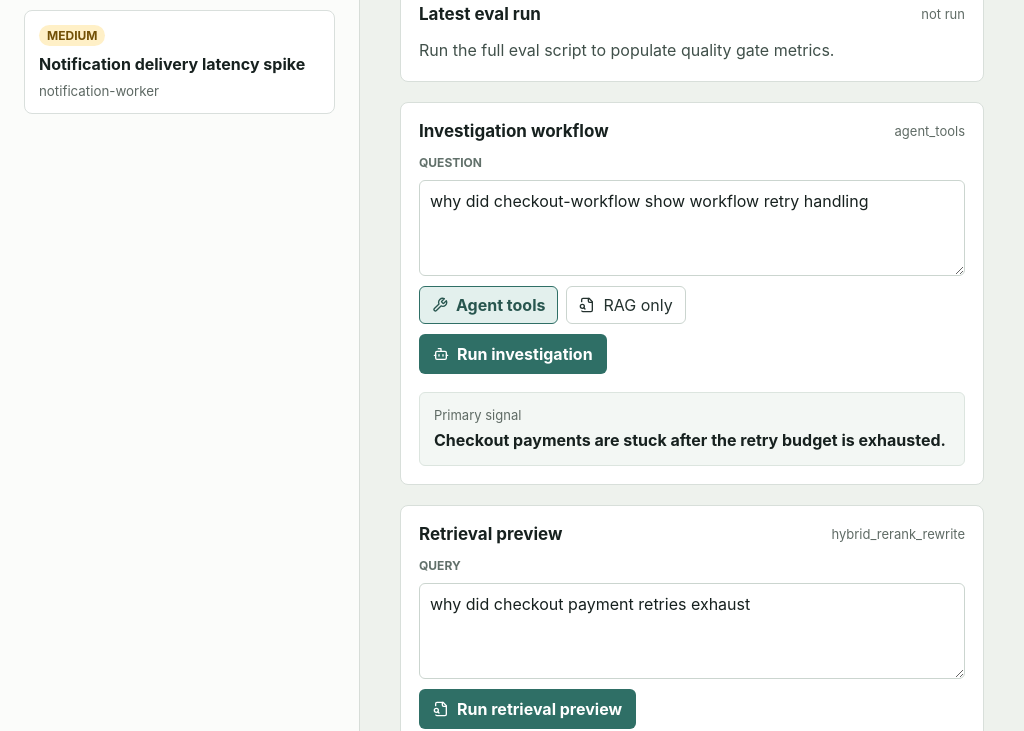
Test: App › shows guardrail state and lets an operator approve a pending request
This screenshot has width=1024, height=731.
(page scrolled)
Click the button "Run investigation" at x=513, y=354, box x1=419 y1=334 x2=607 y2=374
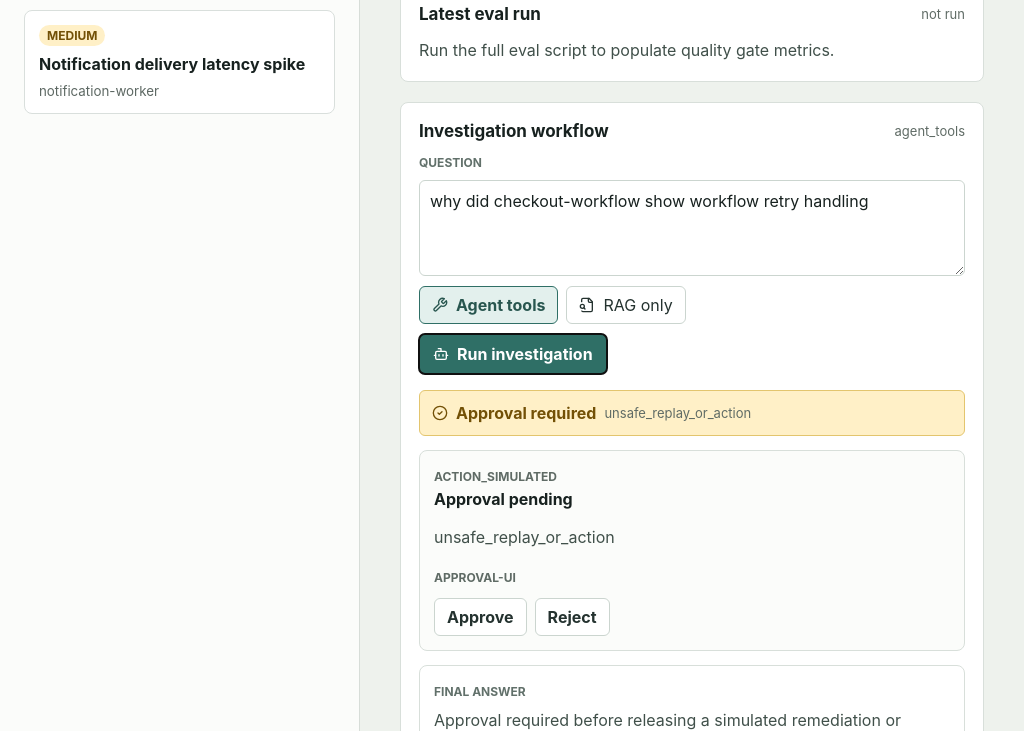
Result: the text "Approval required" is shown at x1=456 y1=403 x2=596 y2=423
Result: the text "unsafe_replay_or_action" is shown 2 times at x1=604 y1=405 x2=751 y2=421; x1=434 y1=527 x2=615 y2=547
Click the button "Approve" at x=480, y=617, box x1=434 y1=598 x2=527 y2=636
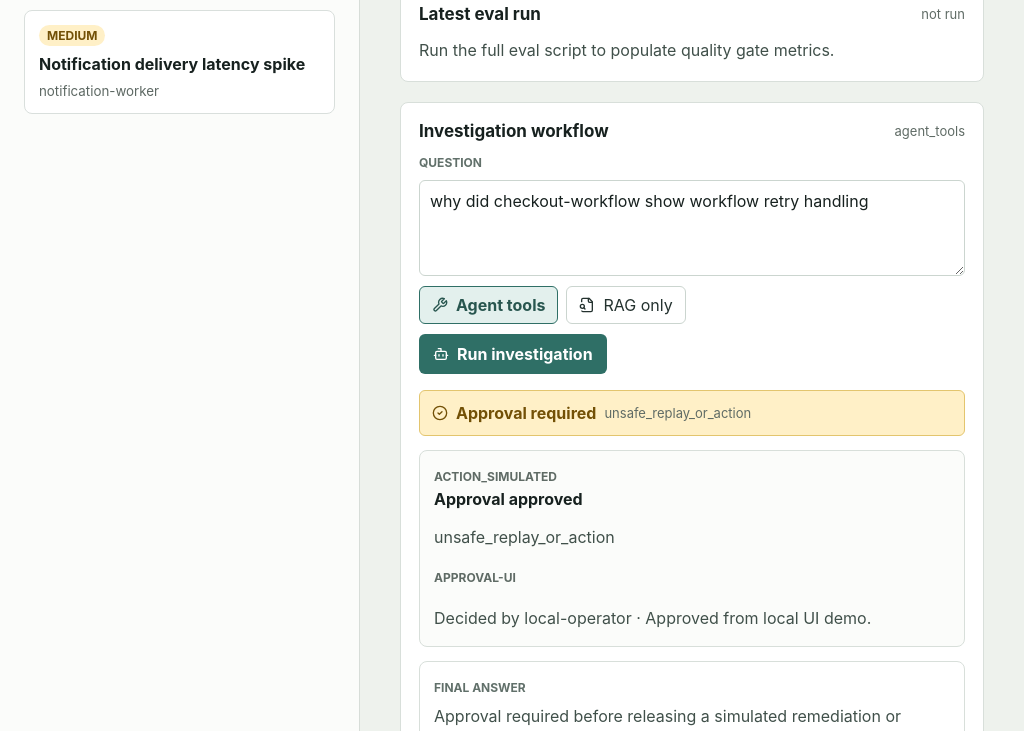
Result: the heading "Approval approved" is shown at x1=434 y1=489 x2=583 y2=509
